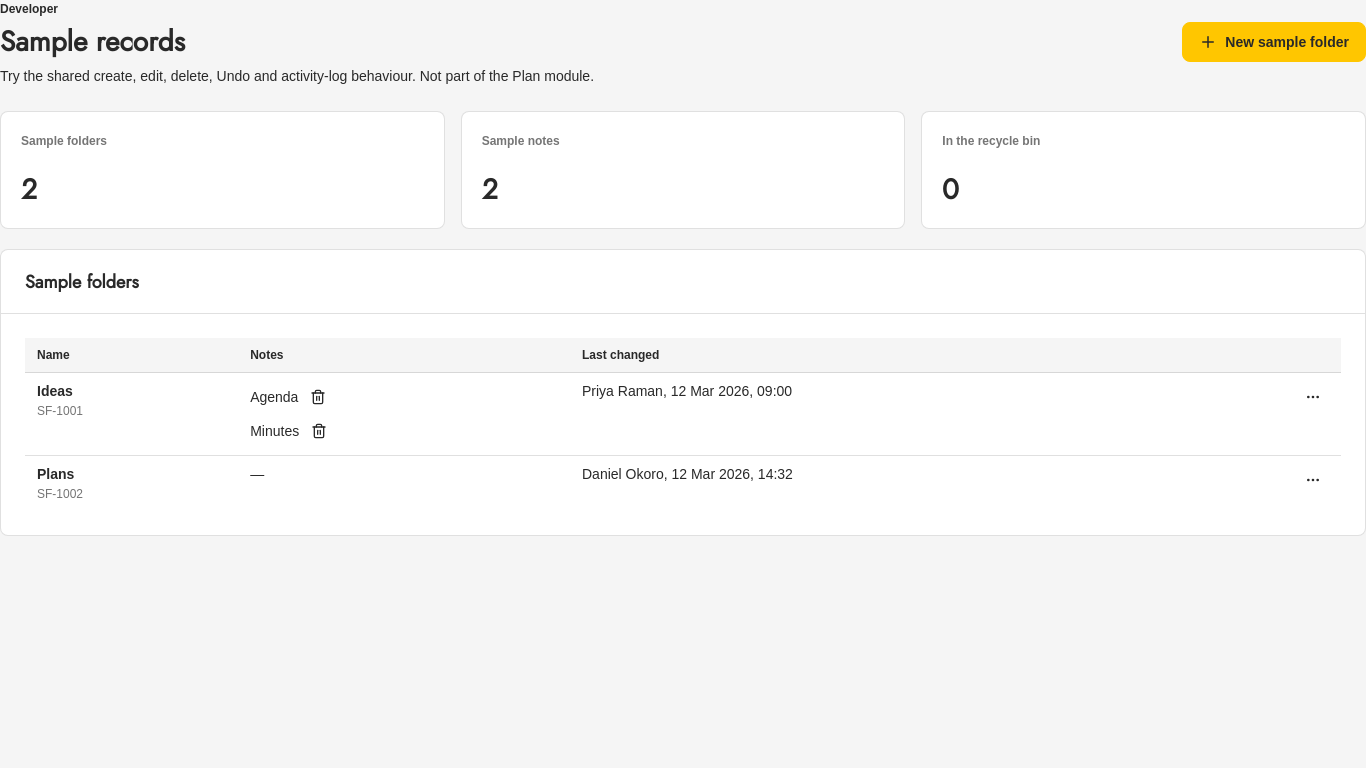
Test: SampleRecordsPage: notes › deletes a note after asking, and offers Undo (FR-024, FR-026)
Expected: the element "Sample folders" is shown, [0,249,1365,536]
Click the button named "Delete note 'Agenda'".
click(318, 397)  # box [302,381,334,413]
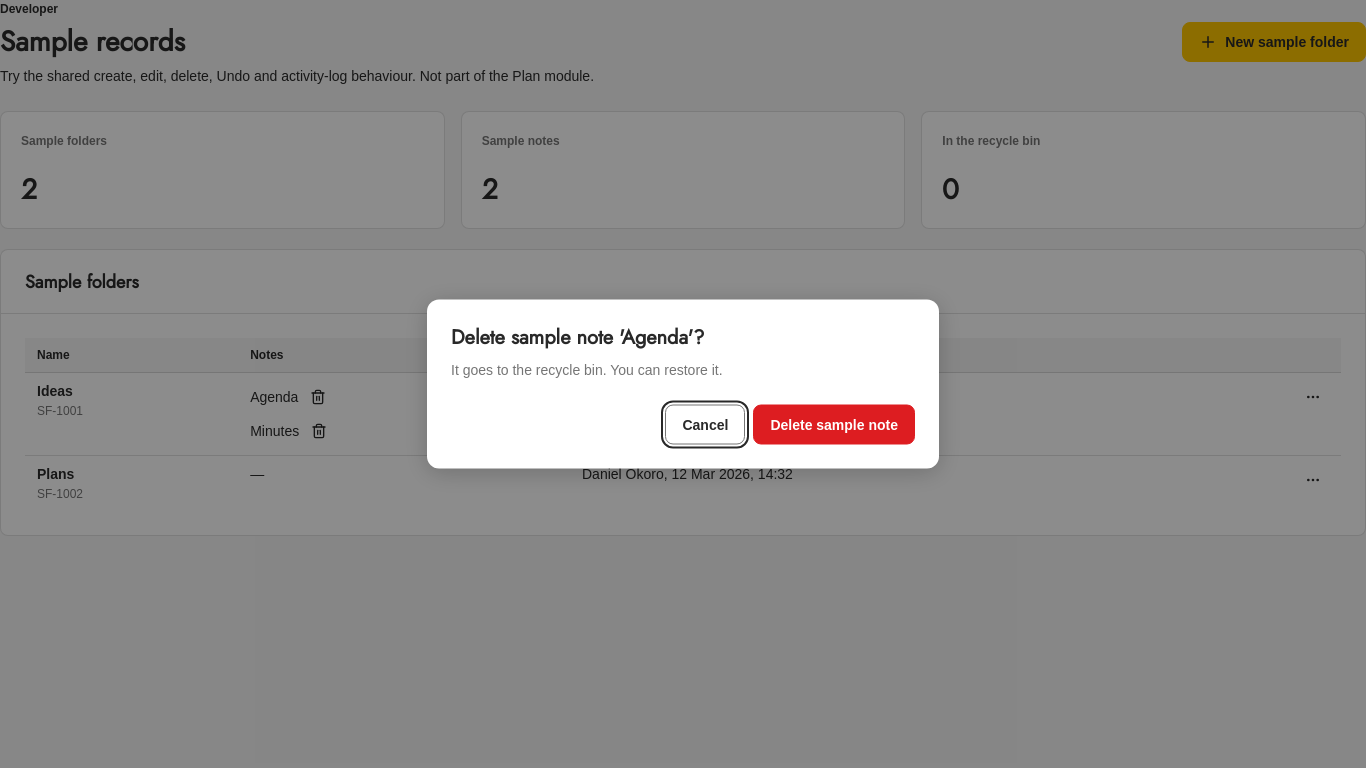
Click the button "Delete sample note".
click(834, 424)  # box [753,404,915,444]
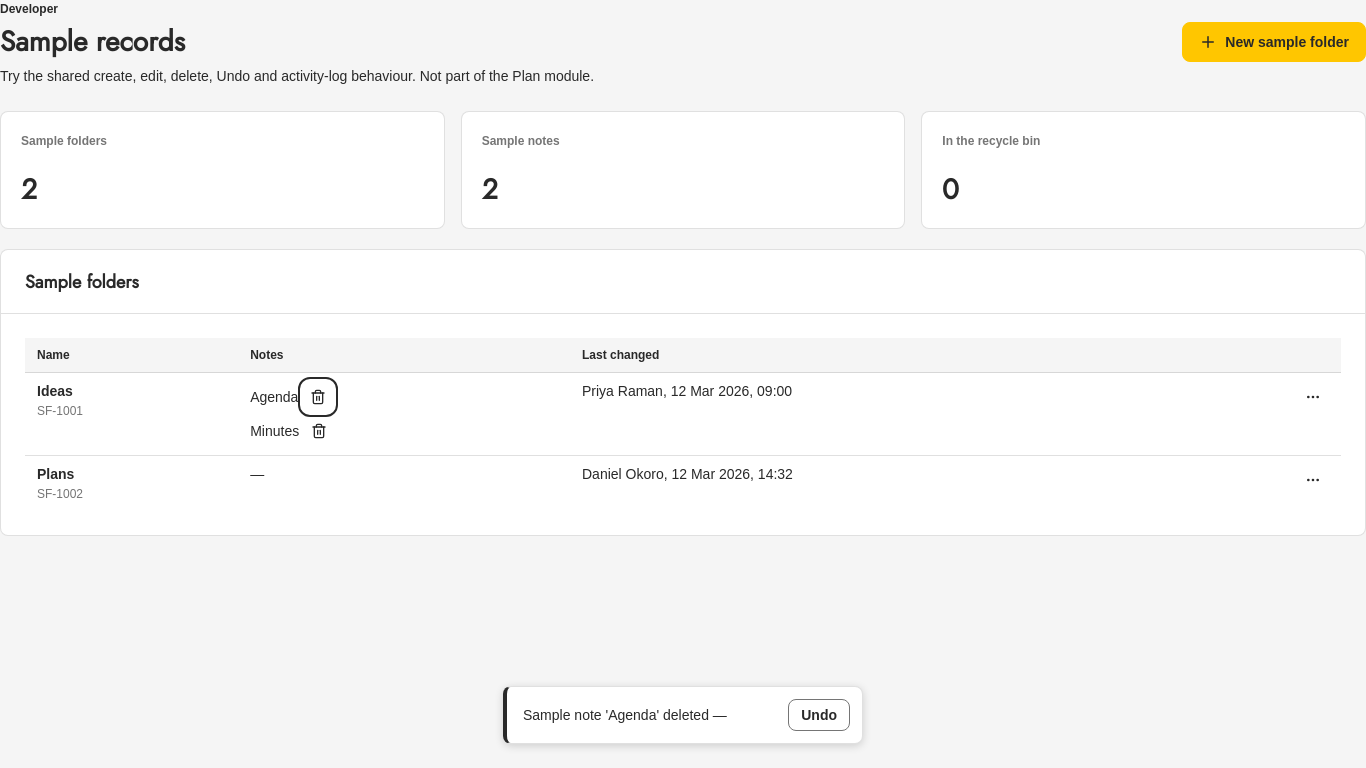
Expected: the button "Undo" is shown, [788,699,850,731]
Expected: the dialog is gone
